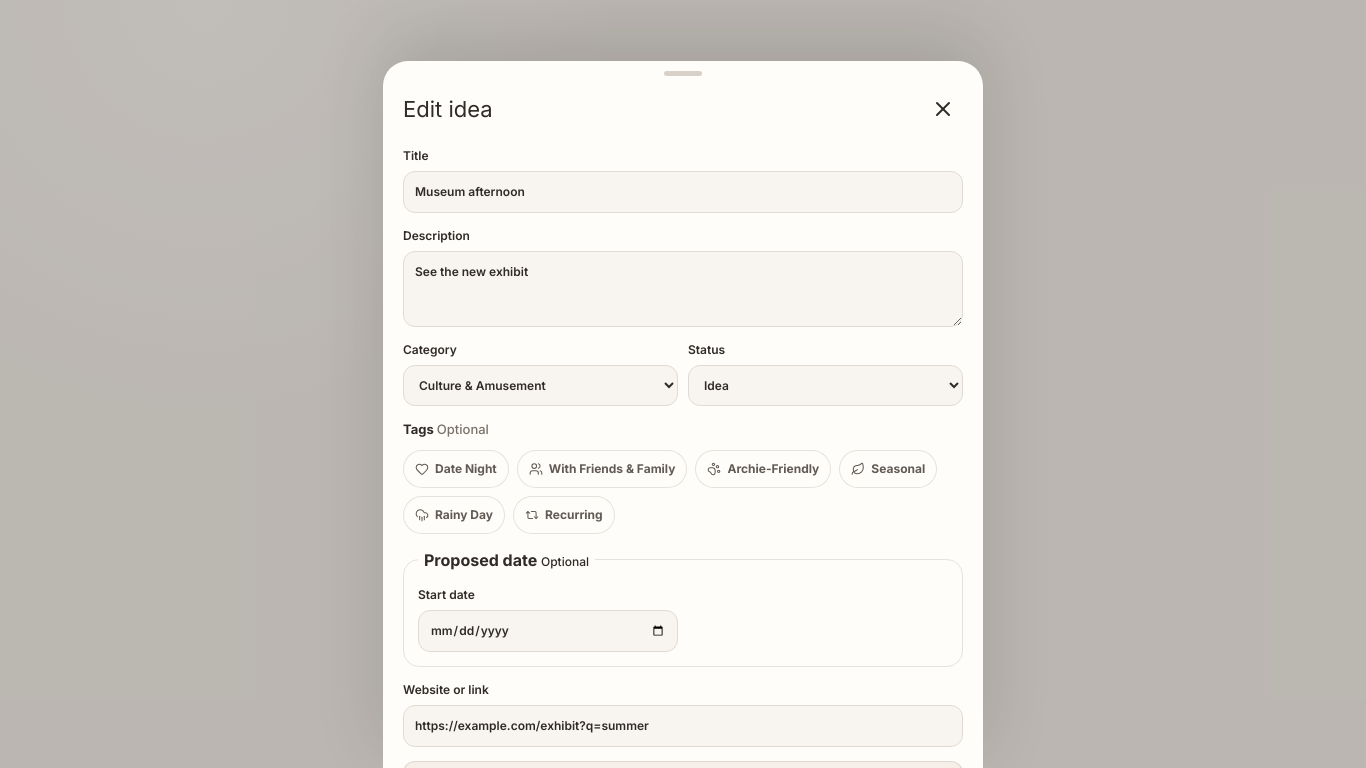
Test: Idea website field › announces malformed and unsafe URLs without saving
This screenshot has width=1366, height=768.
Replace the text in the field labelled "Website or link" with "javascript:alert(1)": (683, 726) [403, 705, 963, 747]
(page scrolled)
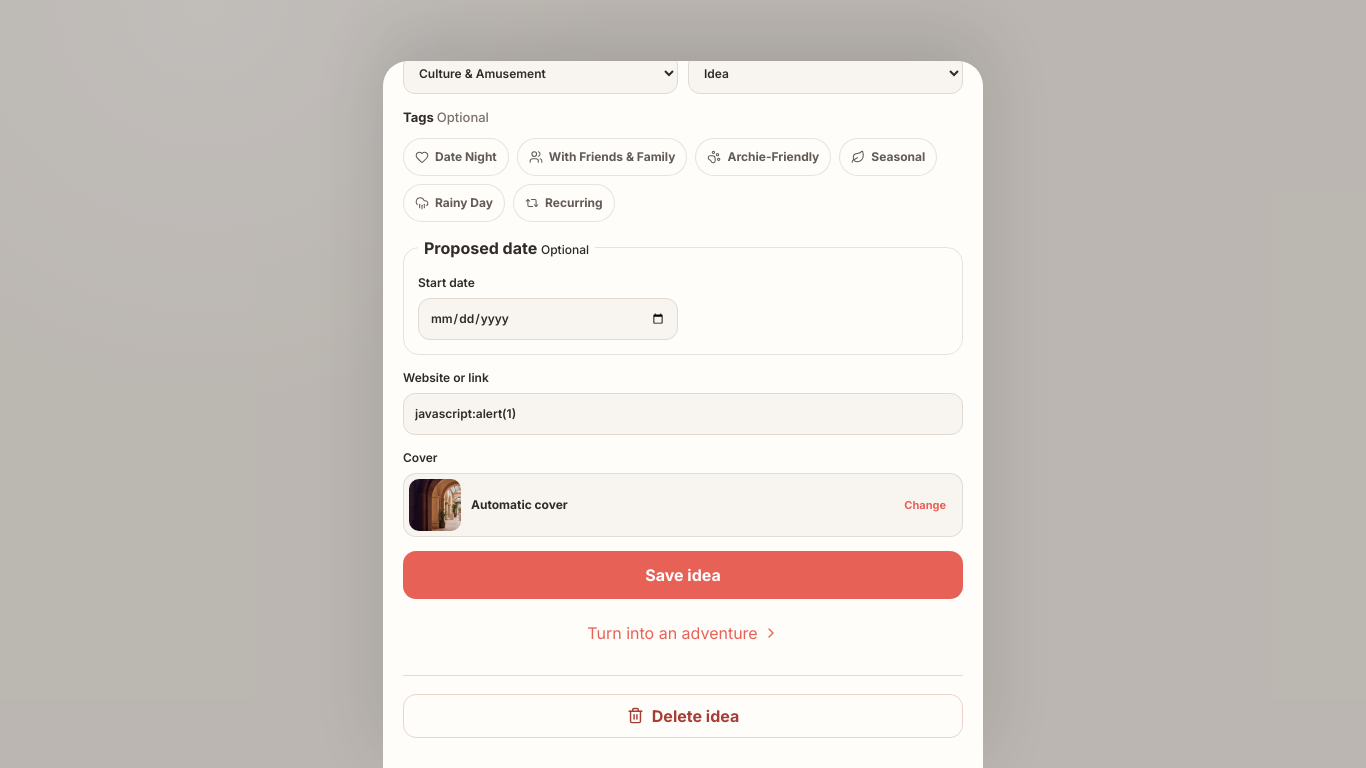
Click the button "Save idea": (683, 575) [403, 551, 963, 599]
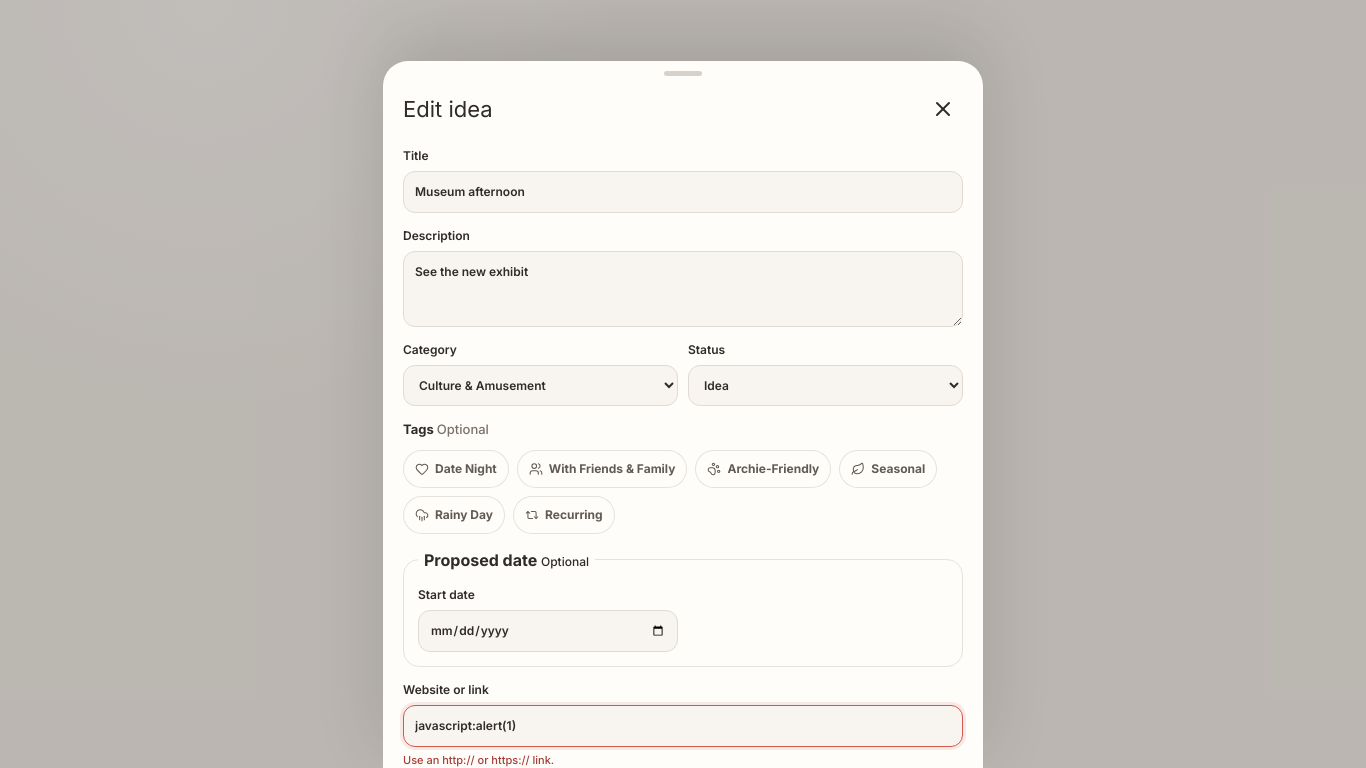
Expected: the message shows "http:// or https://", [403, 753, 554, 767]
